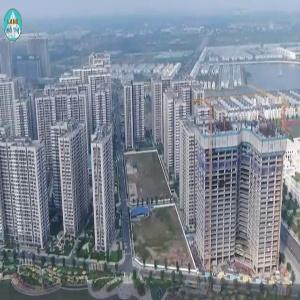drone: (196, 156, 254, 214)
